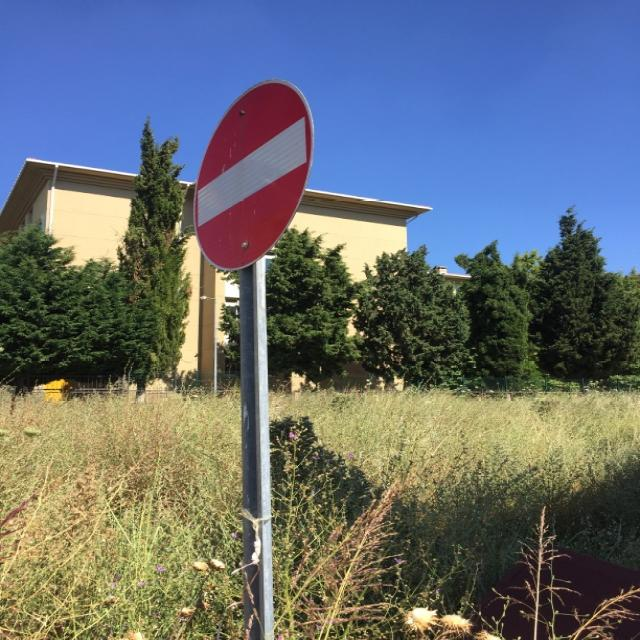girisyok: (192, 78, 313, 272)
